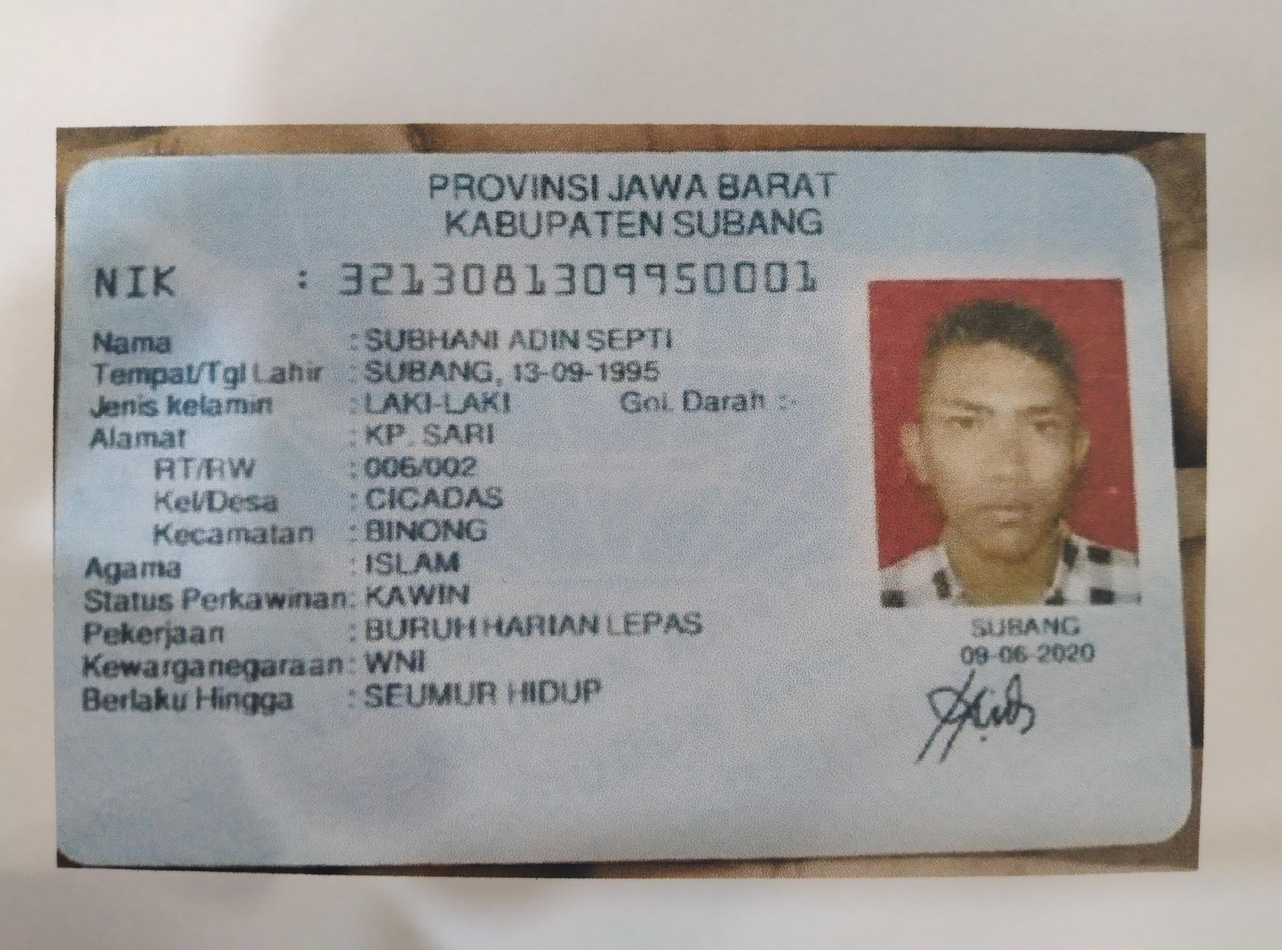ID-card: (60, 151, 1192, 865)
